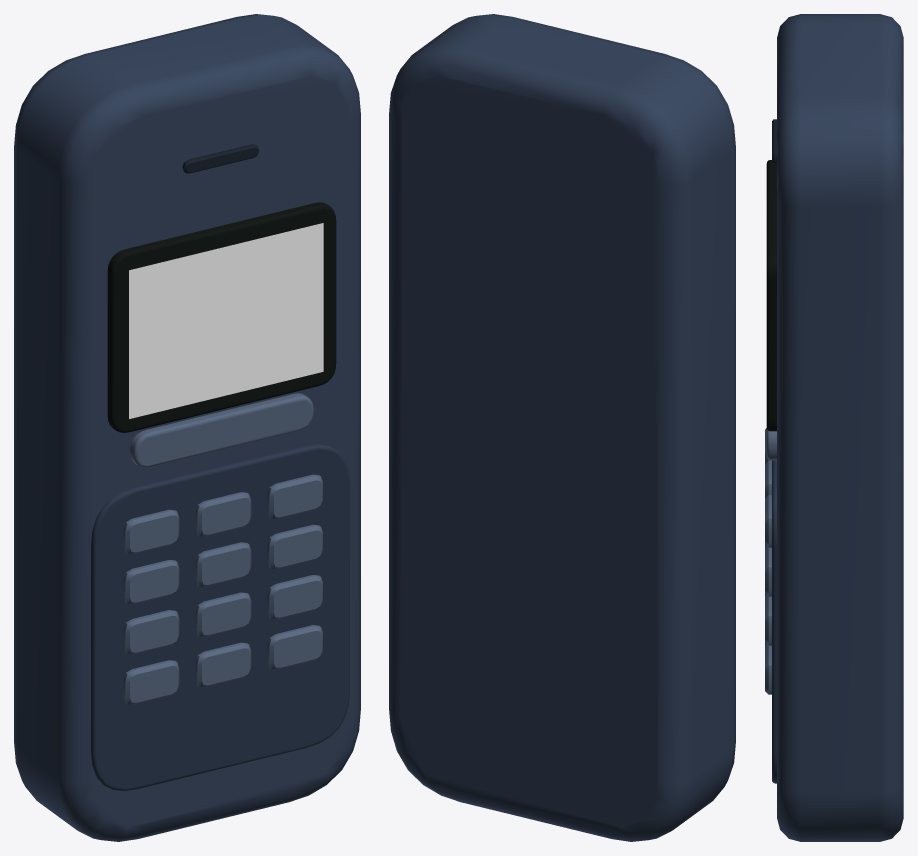
File: candy.glb
3 renders of one model, left to right at view 1: azimuth 30°, elevation 25°; view 2: azimuth 150°, elevation 25°; view 3: azimuth 270°, elevation 25°, orthographic. The views are drawn at different scales.
Visible parts, largest first — view 1: Body, Face, Key, Screen, Bezel, Grille; view 2: Body; view 3: Body, Bezel, Key, Face.
Boxes of the visible parts, bbox=[...] form: Body: bbox=[14, 14, 360, 841]; Face: bbox=[91, 444, 349, 790]; Key: bbox=[123, 393, 322, 704]; Screen: bbox=[129, 223, 323, 418]; Bezel: bbox=[107, 202, 336, 432]; Grille: bbox=[182, 144, 258, 173]; Body: bbox=[389, 14, 735, 841]; Body: bbox=[777, 14, 903, 841]; Bezel: bbox=[766, 160, 776, 431]; Key: bbox=[765, 428, 776, 694]; Face: bbox=[772, 460, 776, 783].
Size of the model in its own units: 0.2 by 0.48 by 0.0825.
